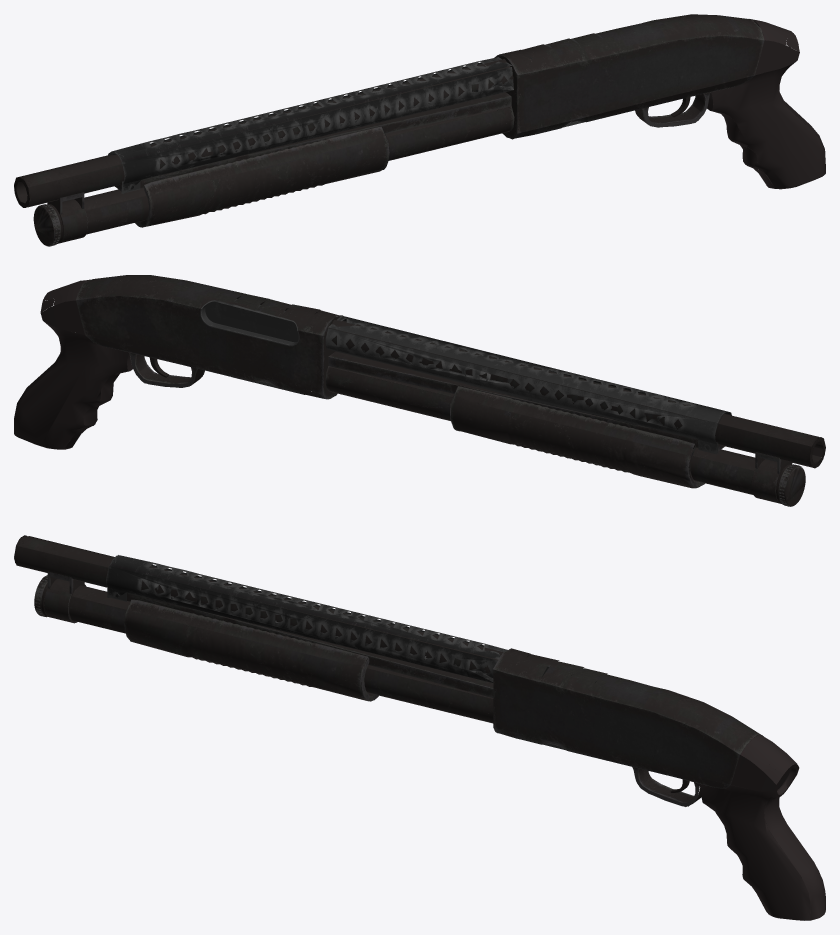
File: shotgun lod 1.fbx
The picture shows the model from 3 angles, top to bottom: view 1: azimuth 30°, elevation 25°; view 2: azimuth 150°, elevation 25°; view 3: azimuth 330°, elevation 25°; orthographic projection.
Visible parts, largest first — view 1: Body90, Body8, Body5, Body1_6, Body1, Body3, Body9, Body13, Body14; view 2: Body90, Body8, Body5, Body1_6, Body1, Body3, Body9, Body87, Body13, Body14; view 3: Body90, Body8, Body1_6, Body5, Body1, Body3, Body9, Body13.
Part boxes in pixels (box(x1,y1,x2,y2)): Body90: box(494, 14, 764, 139); Body8: box(108, 57, 513, 193); Body5: box(135, 126, 389, 227); Body1_6: box(707, 19, 825, 189); Body1: box(84, 106, 514, 234); Body3: box(14, 59, 516, 207); Body9: box(115, 92, 511, 191); Body13: box(47, 192, 87, 243); Body14: box(33, 204, 60, 246); Body90: box(76, 275, 342, 399); Body8: box(325, 315, 731, 454); Body5: box(450, 385, 704, 488); Body1_6: box(14, 280, 132, 449); Body1: box(325, 366, 755, 494); Body3: box(324, 320, 825, 468); Body9: box(328, 351, 724, 451); Body87: box(200, 299, 303, 346); Body13: box(751, 452, 792, 503); Body14: box(778, 464, 805, 506); Body90: box(493, 648, 763, 806); Body8: box(106, 555, 507, 682); Body1_6: box(699, 734, 825, 920); Body5: box(124, 599, 378, 701); Body1: box(69, 585, 493, 723); Body3: box(14, 535, 503, 673); Body9: box(127, 592, 493, 697); Body13: box(44, 571, 86, 623).
Bounding box in the file's own units: 4006 × 930 × 253.
